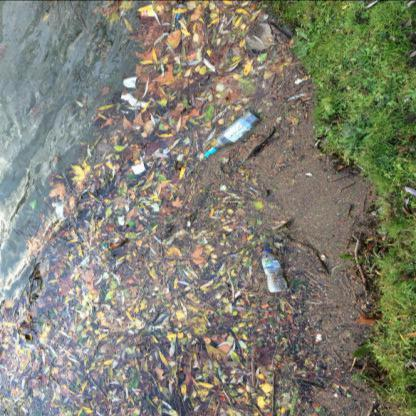Bottle cap: (204, 110, 262, 158), (262, 248, 288, 292)
Plastic bag - wrapper: (137, 4, 162, 26), (172, 13, 181, 30)
Unlabeled litter: (124, 76, 140, 88)
